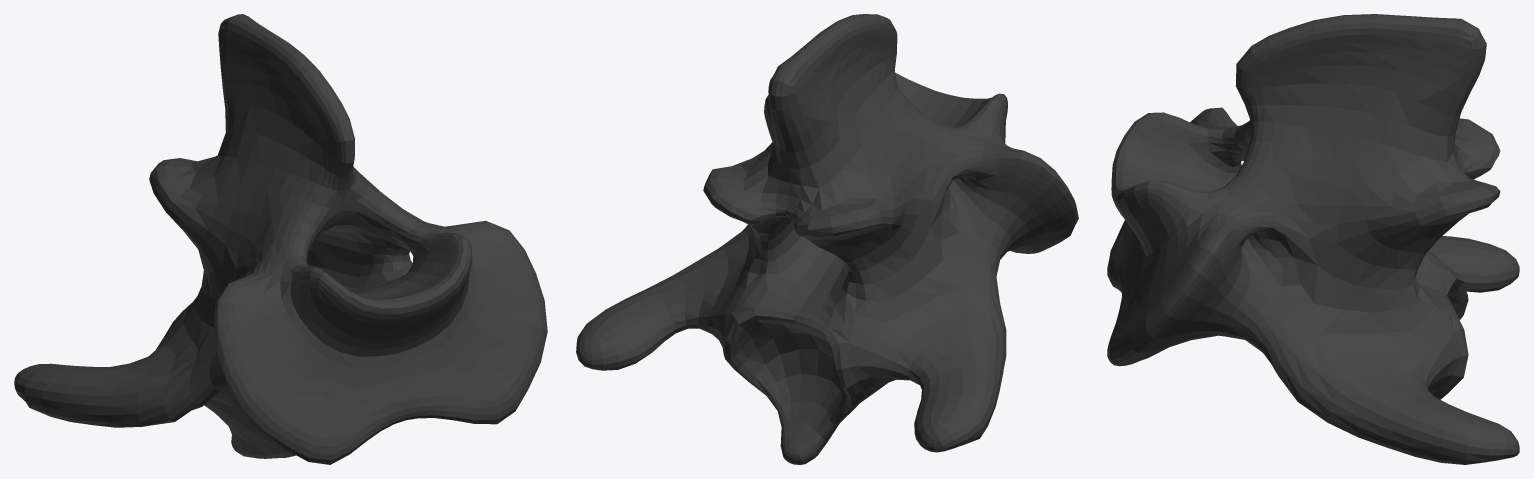
3 views of the same model, side by side, from view 1: azimuth 30°, elevation 25°; view 2: azimuth 150°, elevation 25°; view 3: azimuth 270°, elevation 25° (orthographic). The views are drawn at different scales.
Visible parts, largest first — view 1: b_C2_LO; view 2: b_C2_LO; view 3: b_C2_LO.
Part boxes in pixels (box(x1,y1,x2,y2)): b_C2_LO: box(14, 14, 547, 464); b_C2_LO: box(576, 14, 1078, 464); b_C2_LO: box(1107, 14, 1519, 464).
Size of the model in its own units: 0.00124 by 0.00122 by 0.00105.
1 material, 1 textured.
